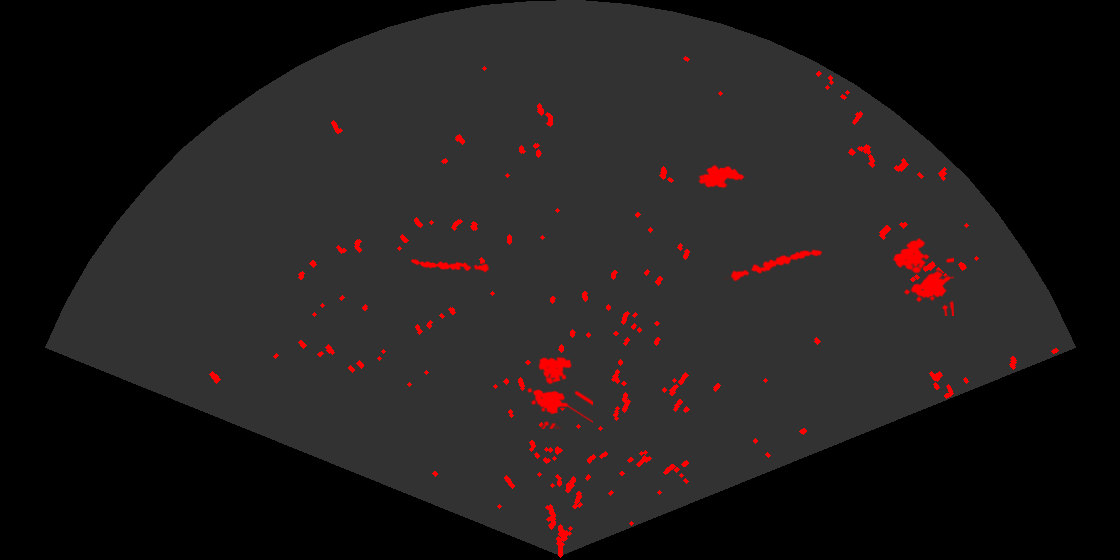AUV: (697, 163, 746, 190)
cage: (891, 236, 954, 316), (526, 355, 593, 429)
chain: (724, 248, 824, 283), (409, 258, 490, 274)
